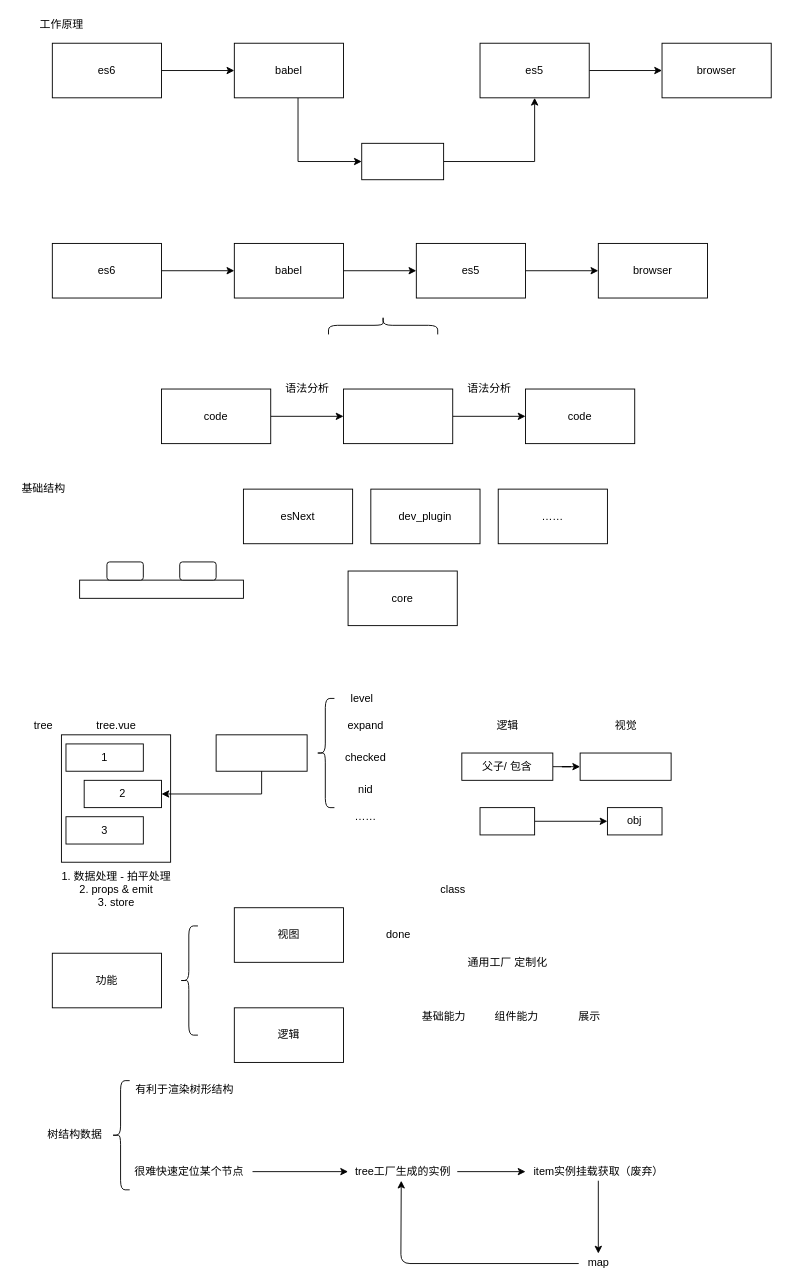
Some shapes in this 787 by 1287 pixel diagram are drawn without their labels. The shapes that lost their labels are listed below. From the top down, each one's centre as x and y in pixels, then its label:
At point (402, 161): "plugin".
At point (398, 416): "AST".
At point (261, 752): "item.vue".
At point (625, 766): "缩进".
At point (507, 821): "树形结构".
